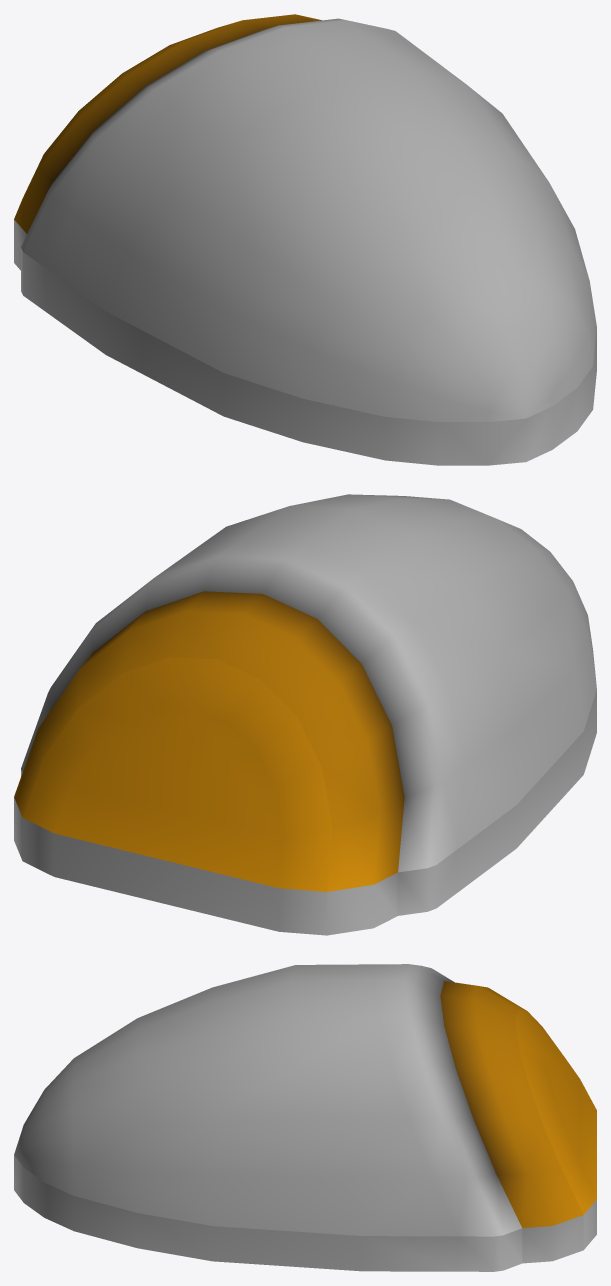
File: obj_dekotora_sidelight.fbx
The picture shows the model from 3 angles, top to bottom: view 1: azimuth 30°, elevation 25°; view 2: azimuth 150°, elevation 25°; view 3: azimuth 270°, elevation 25°; orthographic projection. The views are drawn at different scales.
Visible parts, largest first — view 1: Sphere.003, Sphere.006; view 2: Sphere.003, Sphere.006; view 3: Sphere.003, Sphere.006.
Part boxes in pixels (x1=…): Sphere.003: x1=14, y1=18, x2=596, y2=465; Sphere.006: x1=14, y1=14, x2=321, y2=233; Sphere.003: x1=14, y1=494, x2=596, y2=935; Sphere.006: x1=14, y1=591, x2=404, y2=891; Sphere.003: x1=14, y1=964, x2=596, y2=1271; Sphere.006: x1=440, y1=981, x2=596, y2=1227.
Size of the model in its own units: 1.99 by 1.19 by 3.
